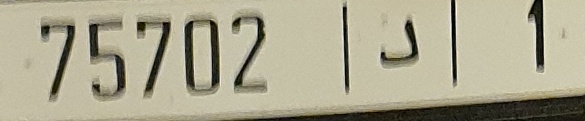0: (183, 15, 223, 99)
1: (524, 0, 548, 75)
2: (229, 12, 271, 96)
5: (86, 19, 129, 103)
7: (38, 18, 77, 104), (135, 17, 172, 99)
d: (378, 16, 421, 69)
